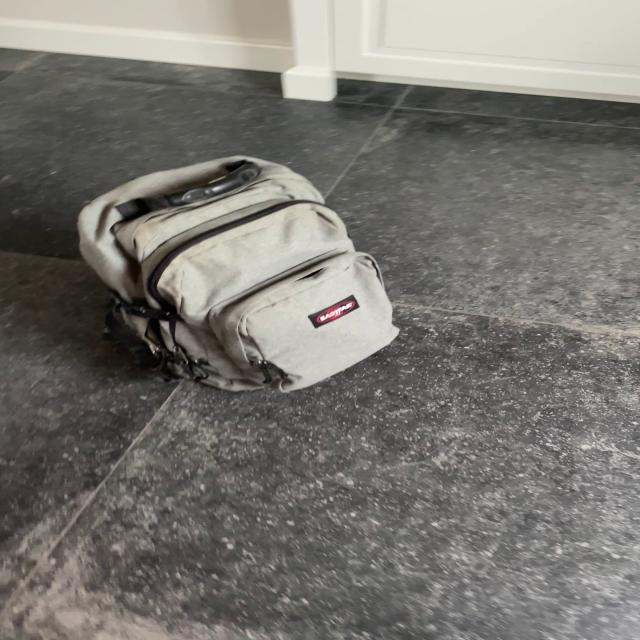backpack: (66, 149, 405, 397)
